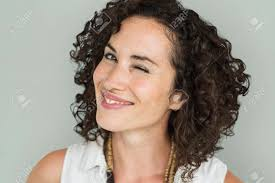white_female: (91, 29, 172, 141)
